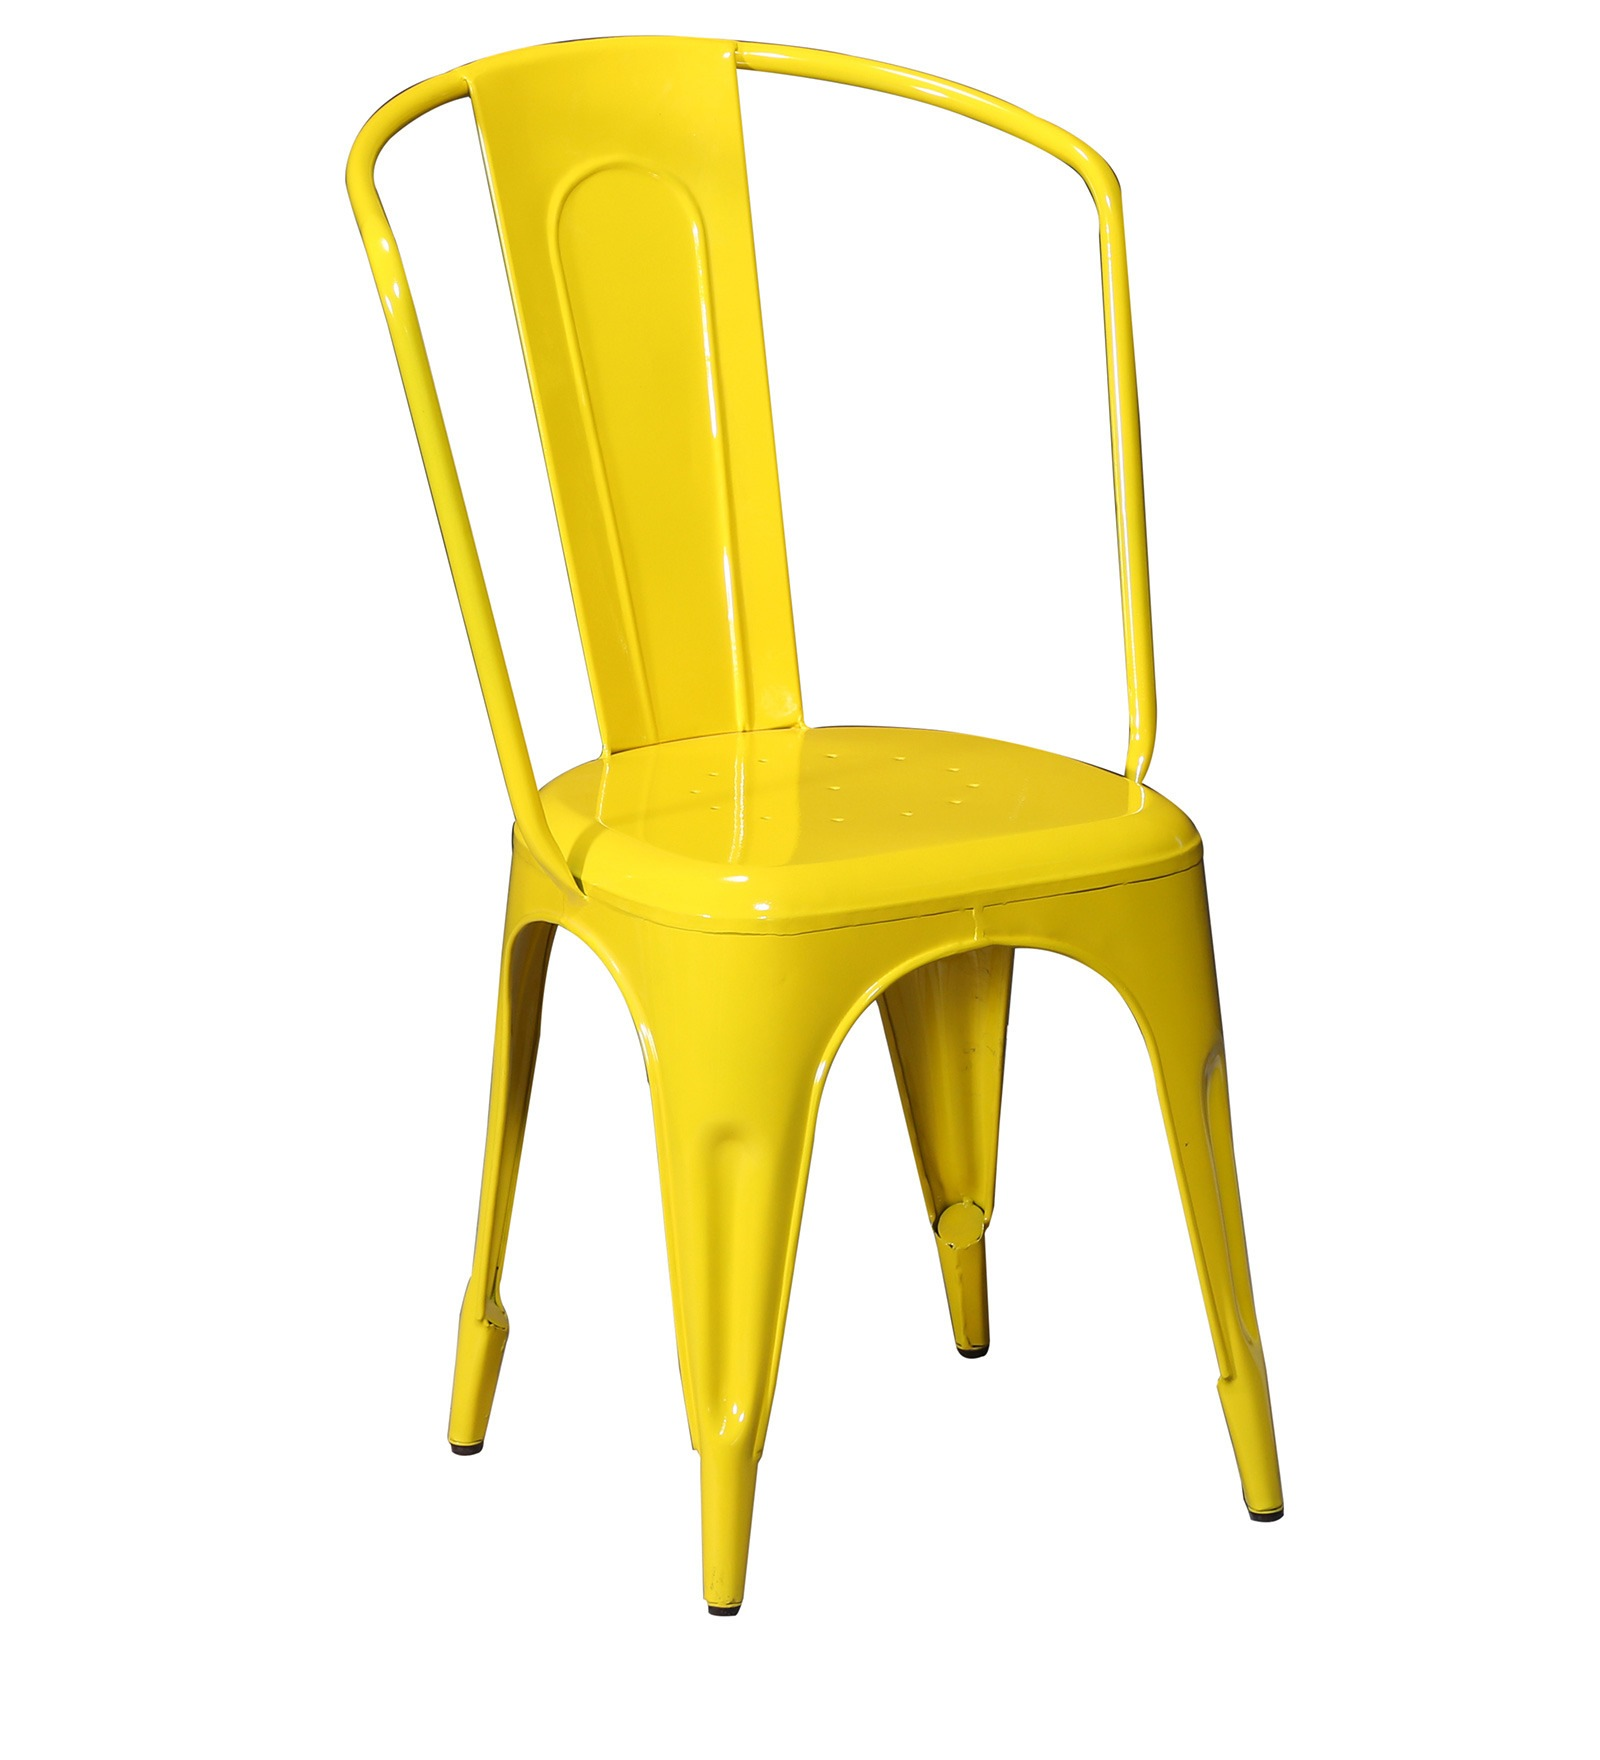Ekati Metal Chair in Yellow Color by Bohemiana: (323, 17, 1313, 1631)
